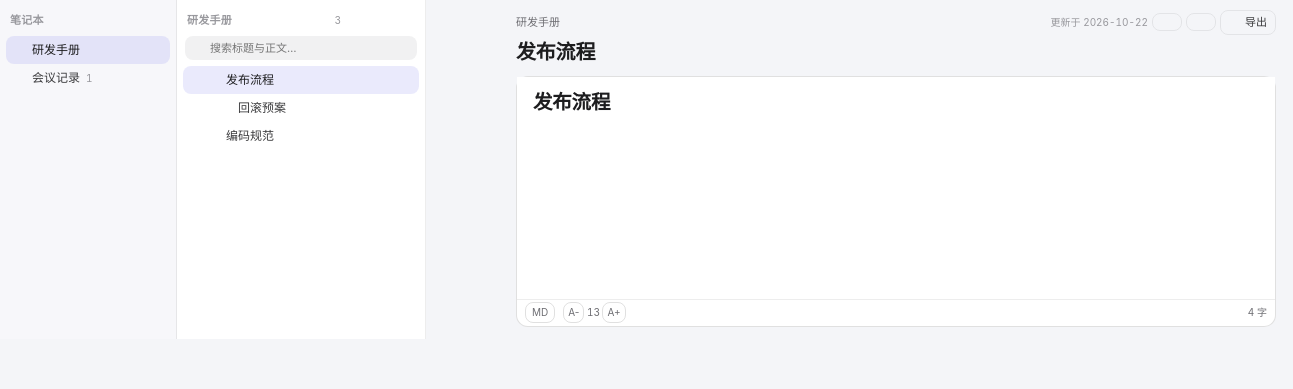
Test: T49-6 · 文档树 › 点另一篇文档 → 标题与正文一起切换
Click the list item with test id "doc-row-d3".
click(242, 136)  # box x1=209 y1=128 x2=274 y2=143
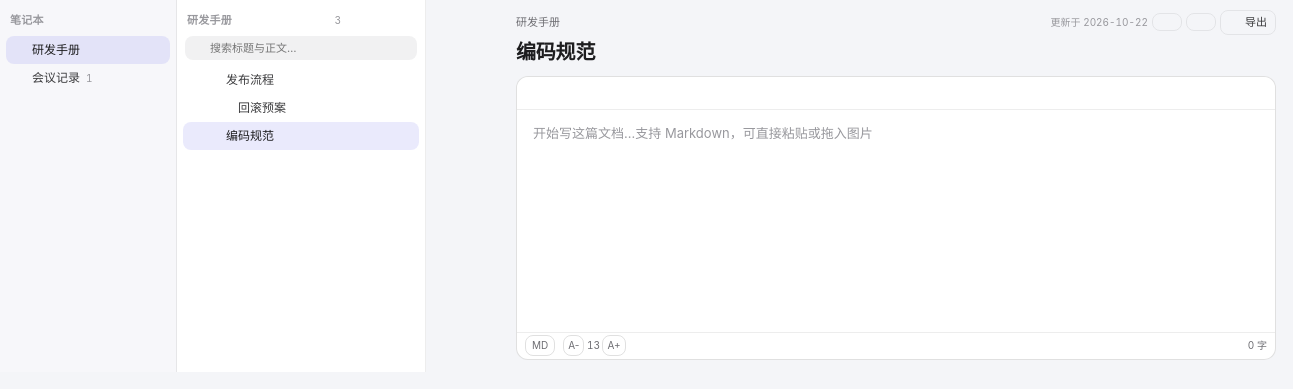
Check: the field with test id "notebook-title-input" holds "编码规范", box x1=516 y1=37 x2=1276 y2=68
Check: the field with test id "note-editor-content" is empty, box x1=517 y1=110 x2=1275 y2=156
